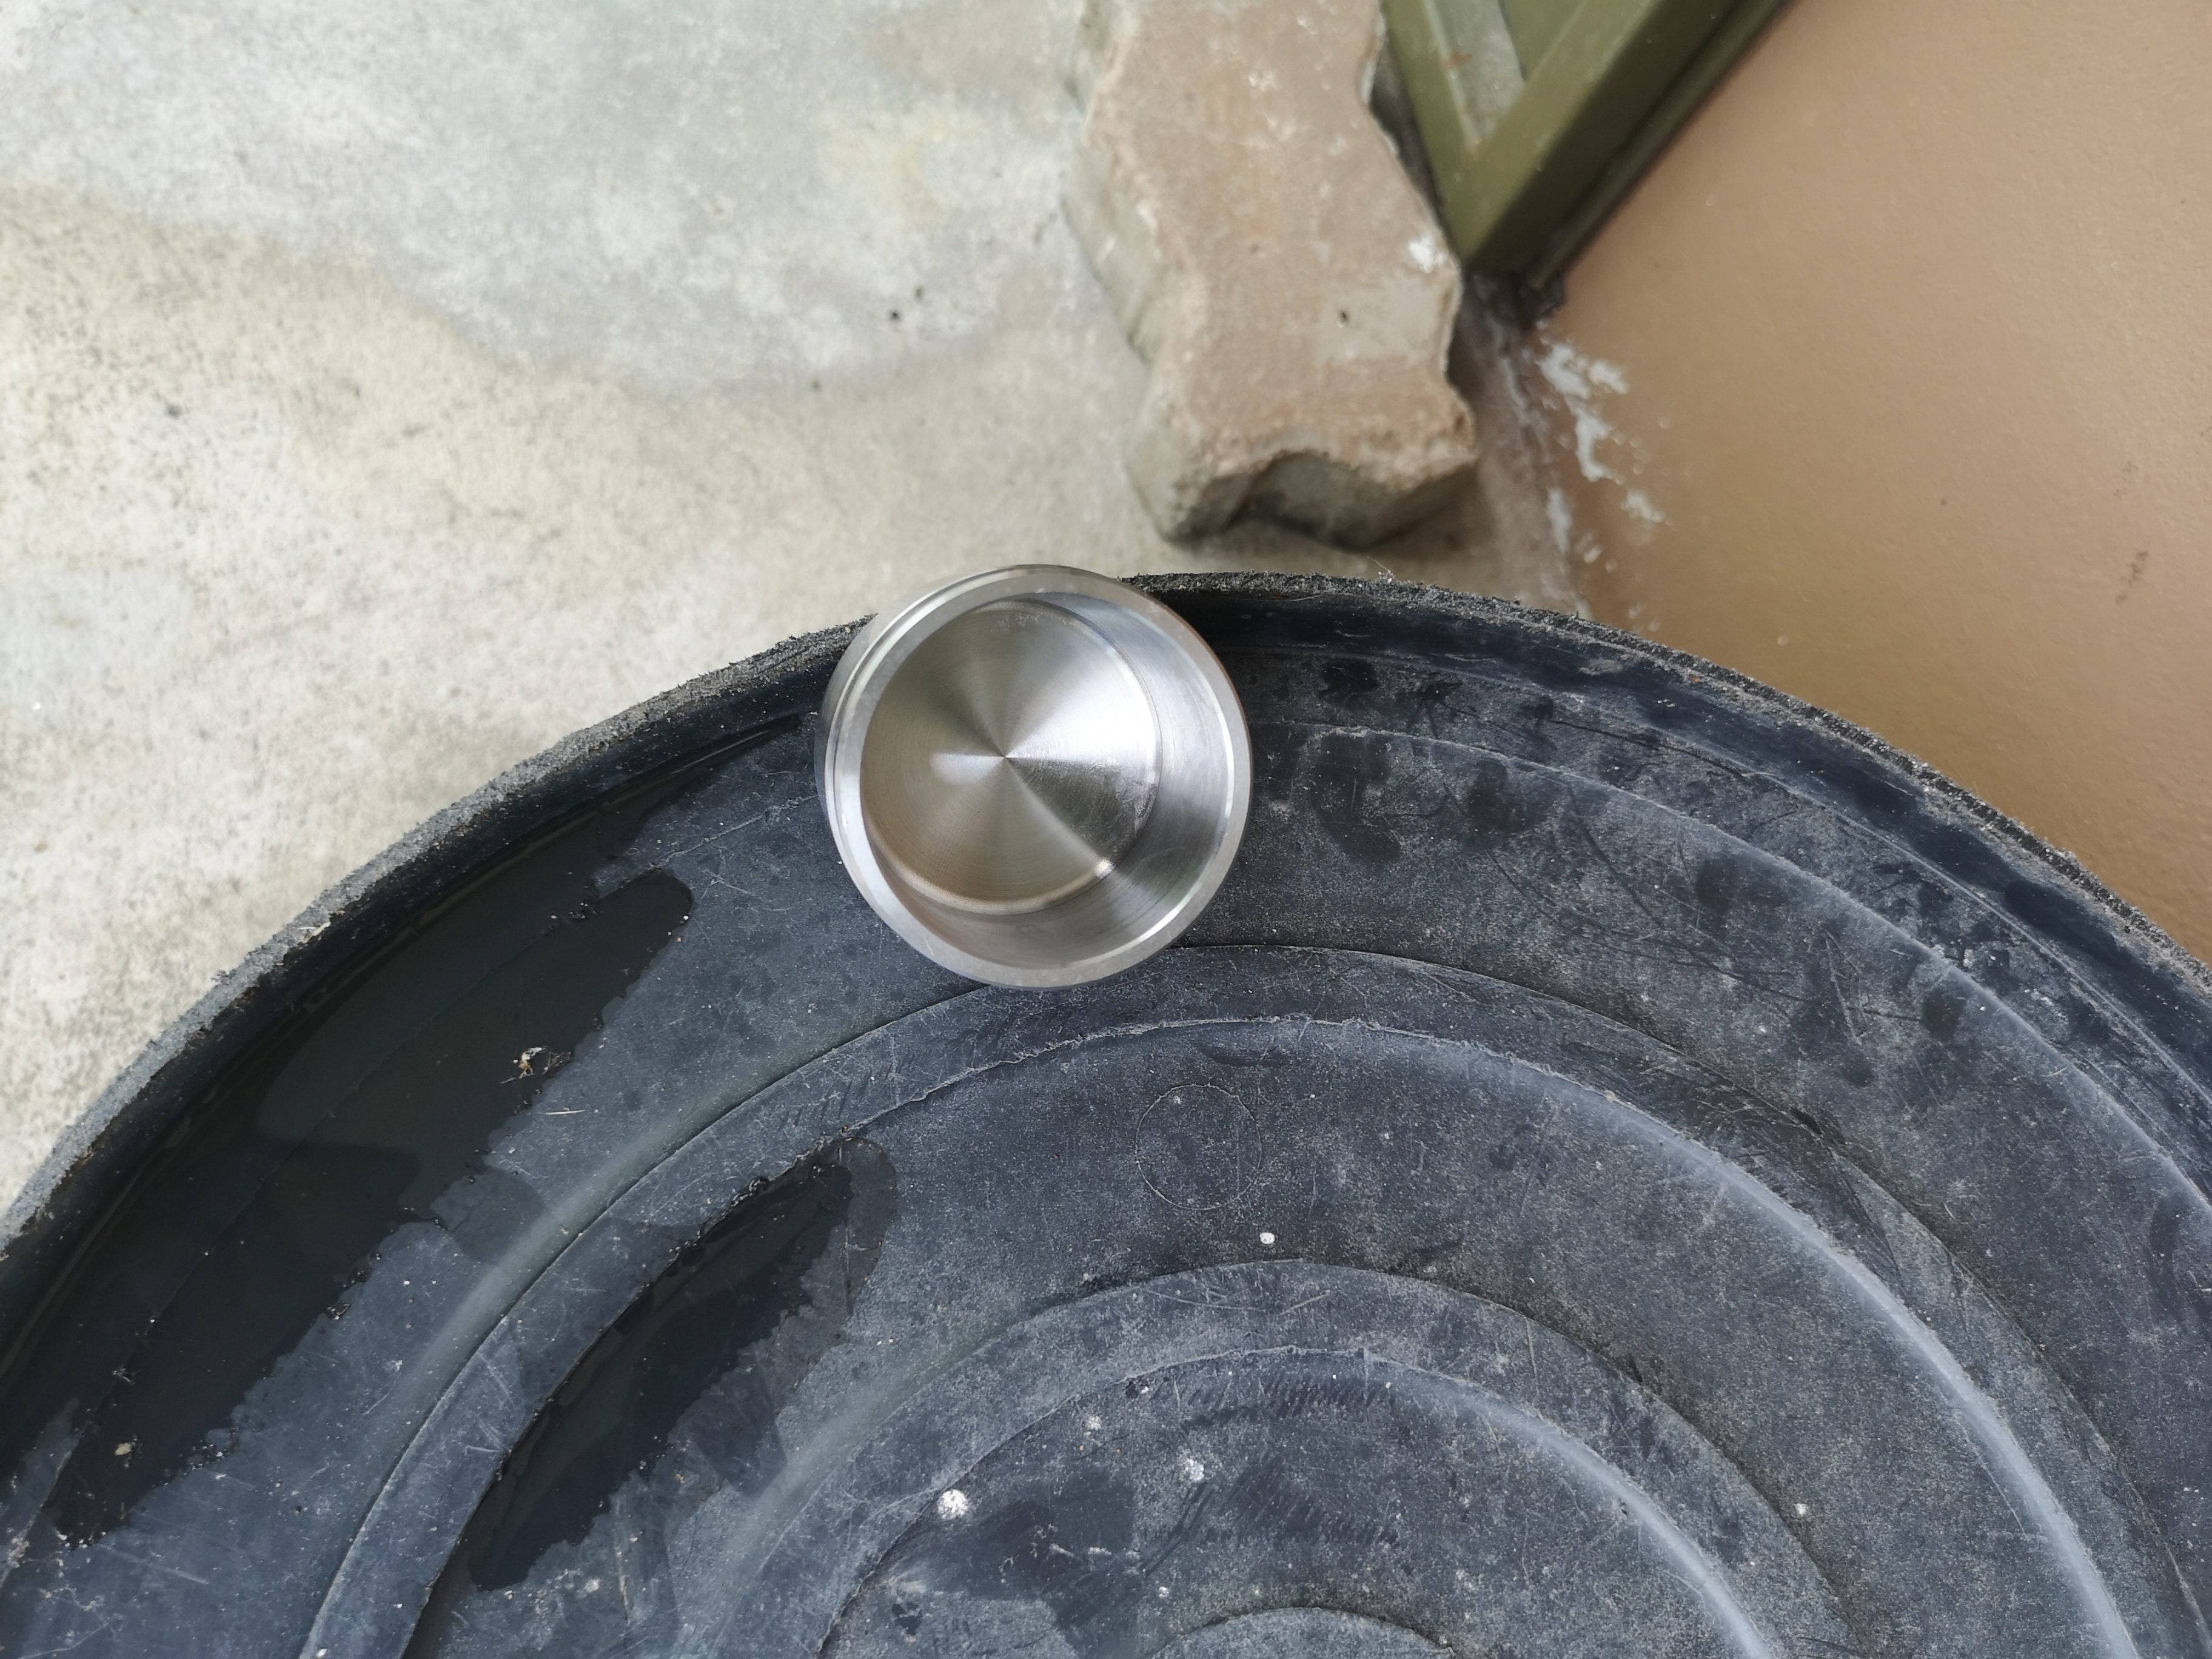ลูกสูบดิสเบรค: (770, 525, 1296, 1051)
